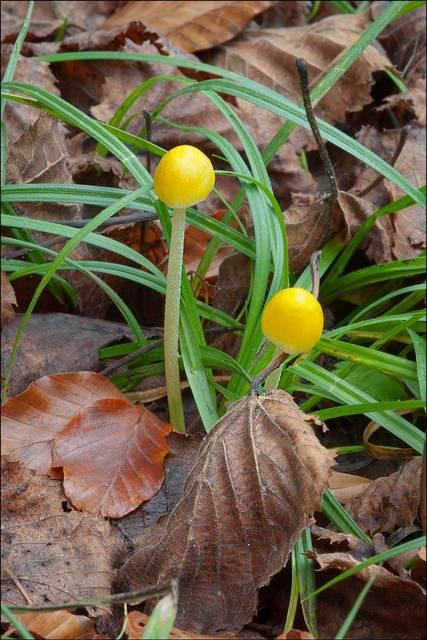edible_mushroom: (259, 286, 324, 355), (152, 143, 215, 210)
